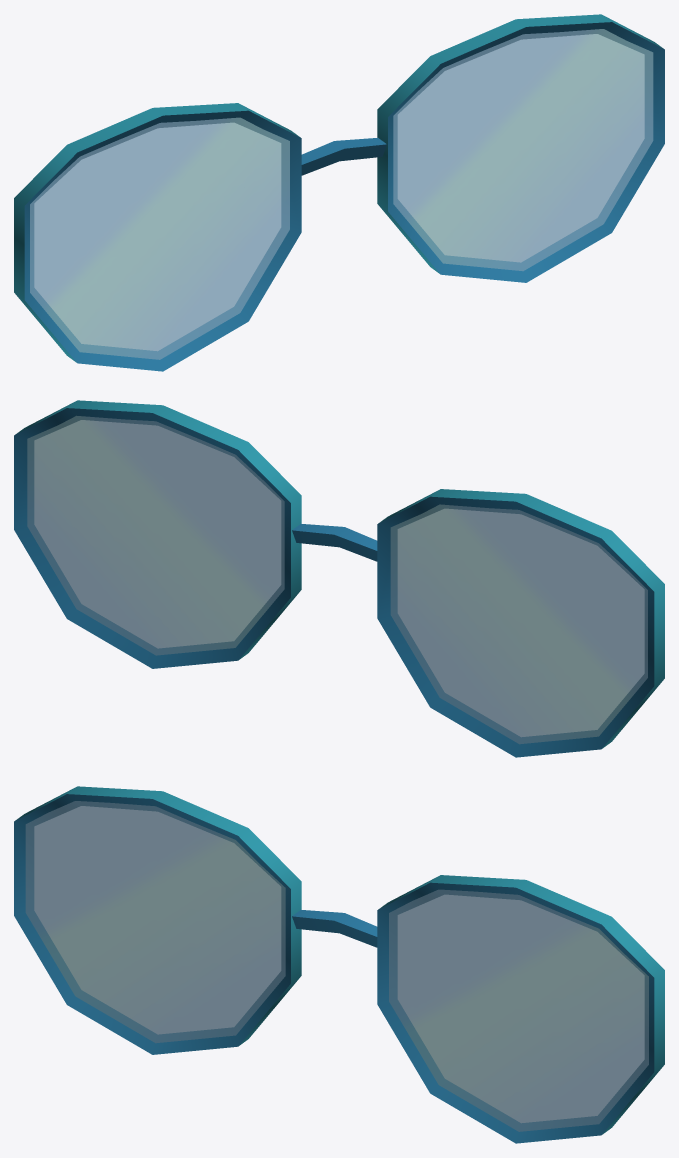
Rendered from Glasses.fbx.
The picture shows the model from 3 angles, top to bottom: view 1: azimuth 30°, elevation 25°; view 2: azimuth 150°, elevation 25°; view 3: azimuth 330°, elevation 25°; orthographic projection.
Parts seen in each view (by area): view 1: Glasses_mesh; view 2: Glasses_mesh; view 3: Glasses_mesh.
Part boxes in pixels (box(x1,y1,x2,y2)): Glasses_mesh: box(14, 14, 664, 371); Glasses_mesh: box(14, 400, 664, 757); Glasses_mesh: box(14, 786, 664, 1143).
Bounding box in the file's own units: 18.24 × 6.97 × 0.5196.
